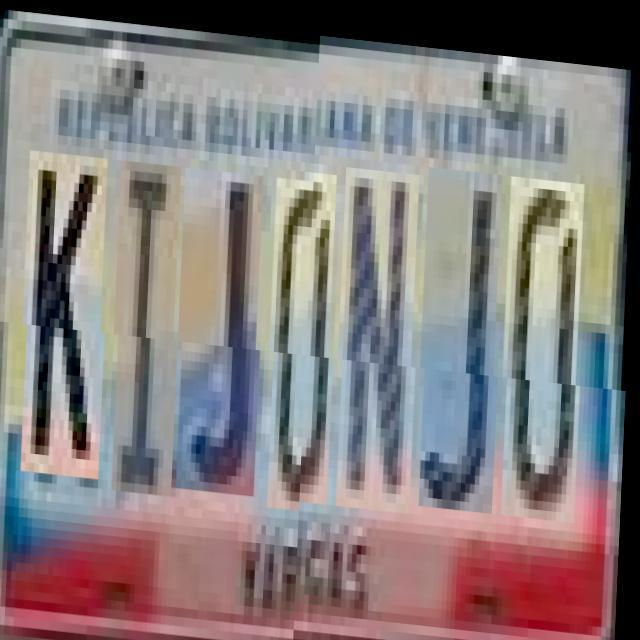0: (504, 174, 590, 518), (271, 172, 342, 506)
I: (116, 158, 187, 492)
J: (422, 166, 508, 511), (180, 164, 270, 491)
K: (25, 150, 114, 477)
N: (340, 168, 425, 514)
